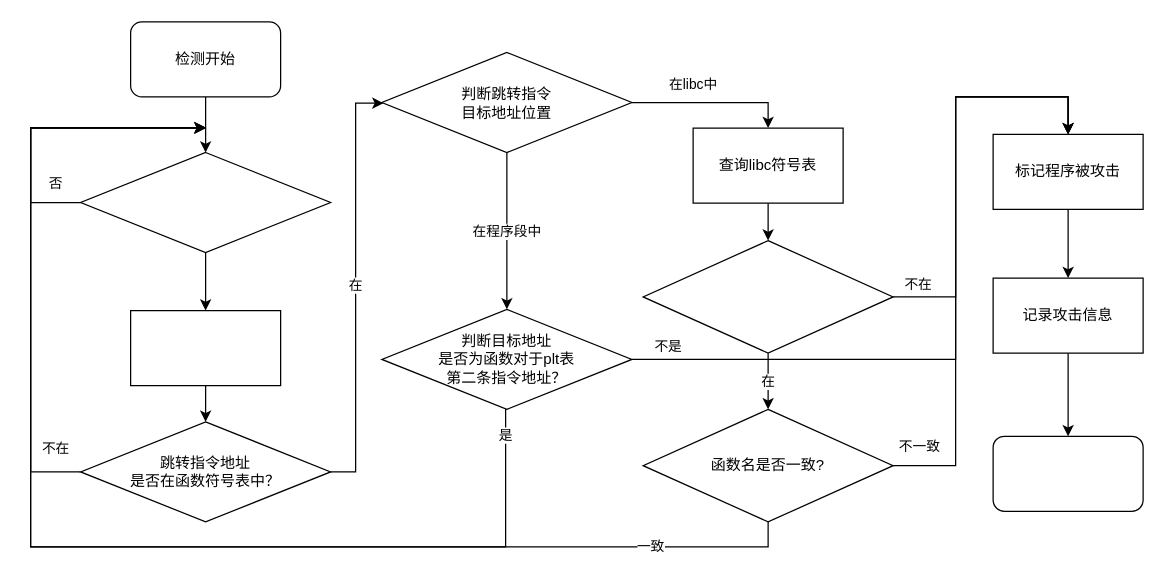
Image size: 1165x579. Some labels were removed from this diagram. The centre of each missing label's shape, as x and y in pixels:
INS_IsBranch ? 判断指令: pixel 205 201
查询函数符号表: pixel 205 347
检测结束: pixel 1067 473
目标地址 是否在libc符号表中?: pixel 767 296
